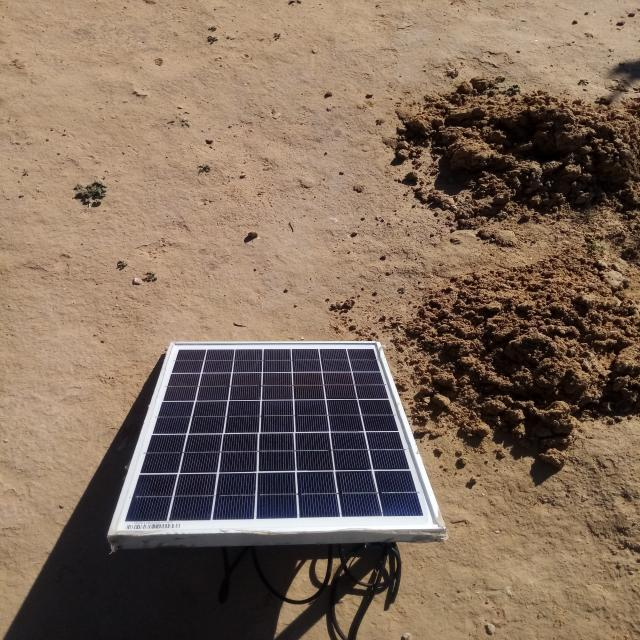Normal Solar Panel: (108, 341, 445, 534)
